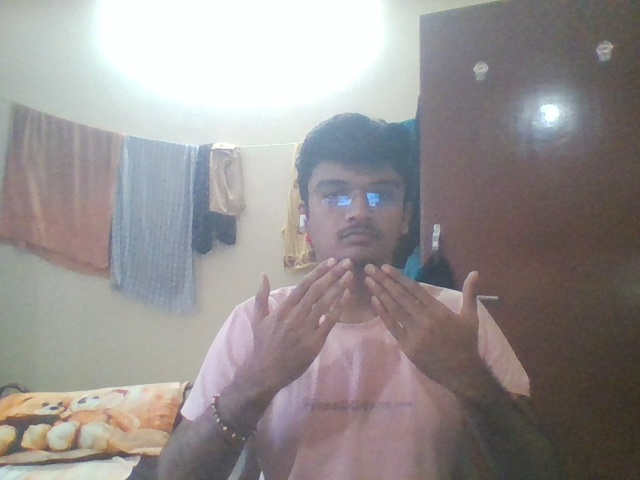thank you: (251, 252, 490, 394)
